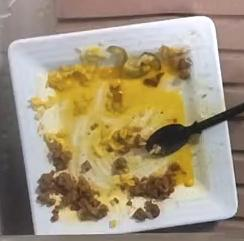beef: (30, 44, 199, 221)
